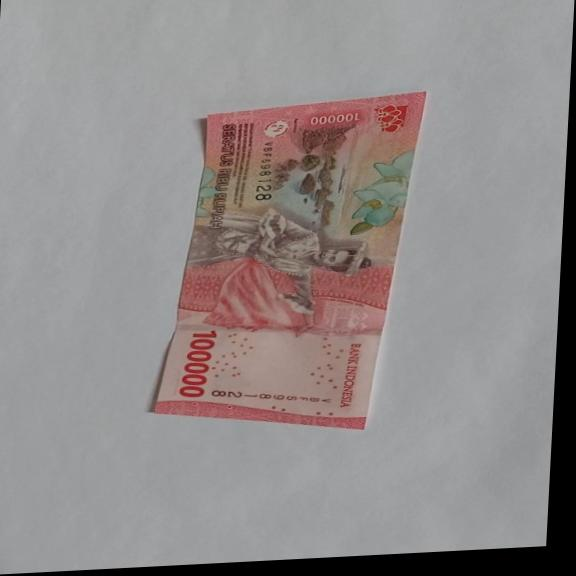Kertas: (147, 90, 428, 442), (177, 329, 219, 399)
